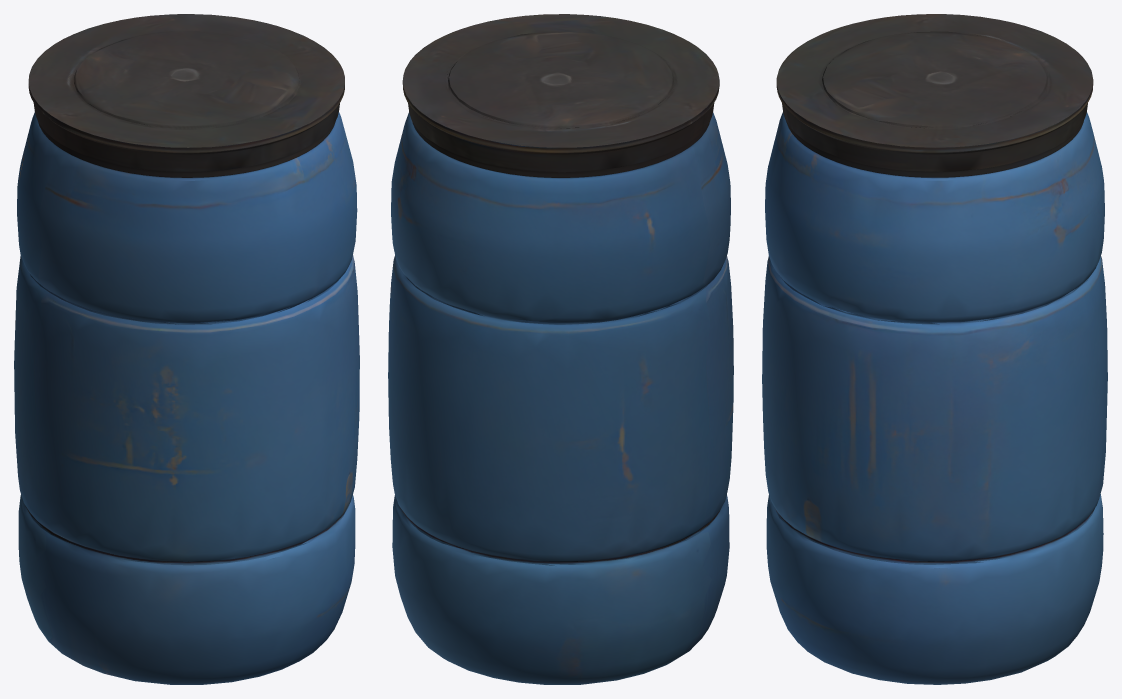
File: blue_barrel.fbx
The picture shows the model from 3 angles, left to right: view 1: azimuth 30°, elevation 25°; view 2: azimuth 150°, elevation 25°; view 3: azimuth 270°, elevation 25°; orthographic projection.
Parts seen in each view (by area): view 1: barrel; view 2: barrel; view 3: barrel.
Boxes of the visible parts, x1,y1,x2,y2 form: barrel: [14, 14, 359, 684]; barrel: [388, 14, 733, 684]; barrel: [762, 14, 1107, 684].
Size of the model in its own units: 78.95 by 140 by 78.96.
Materials: 1 (1 with a texture image).
